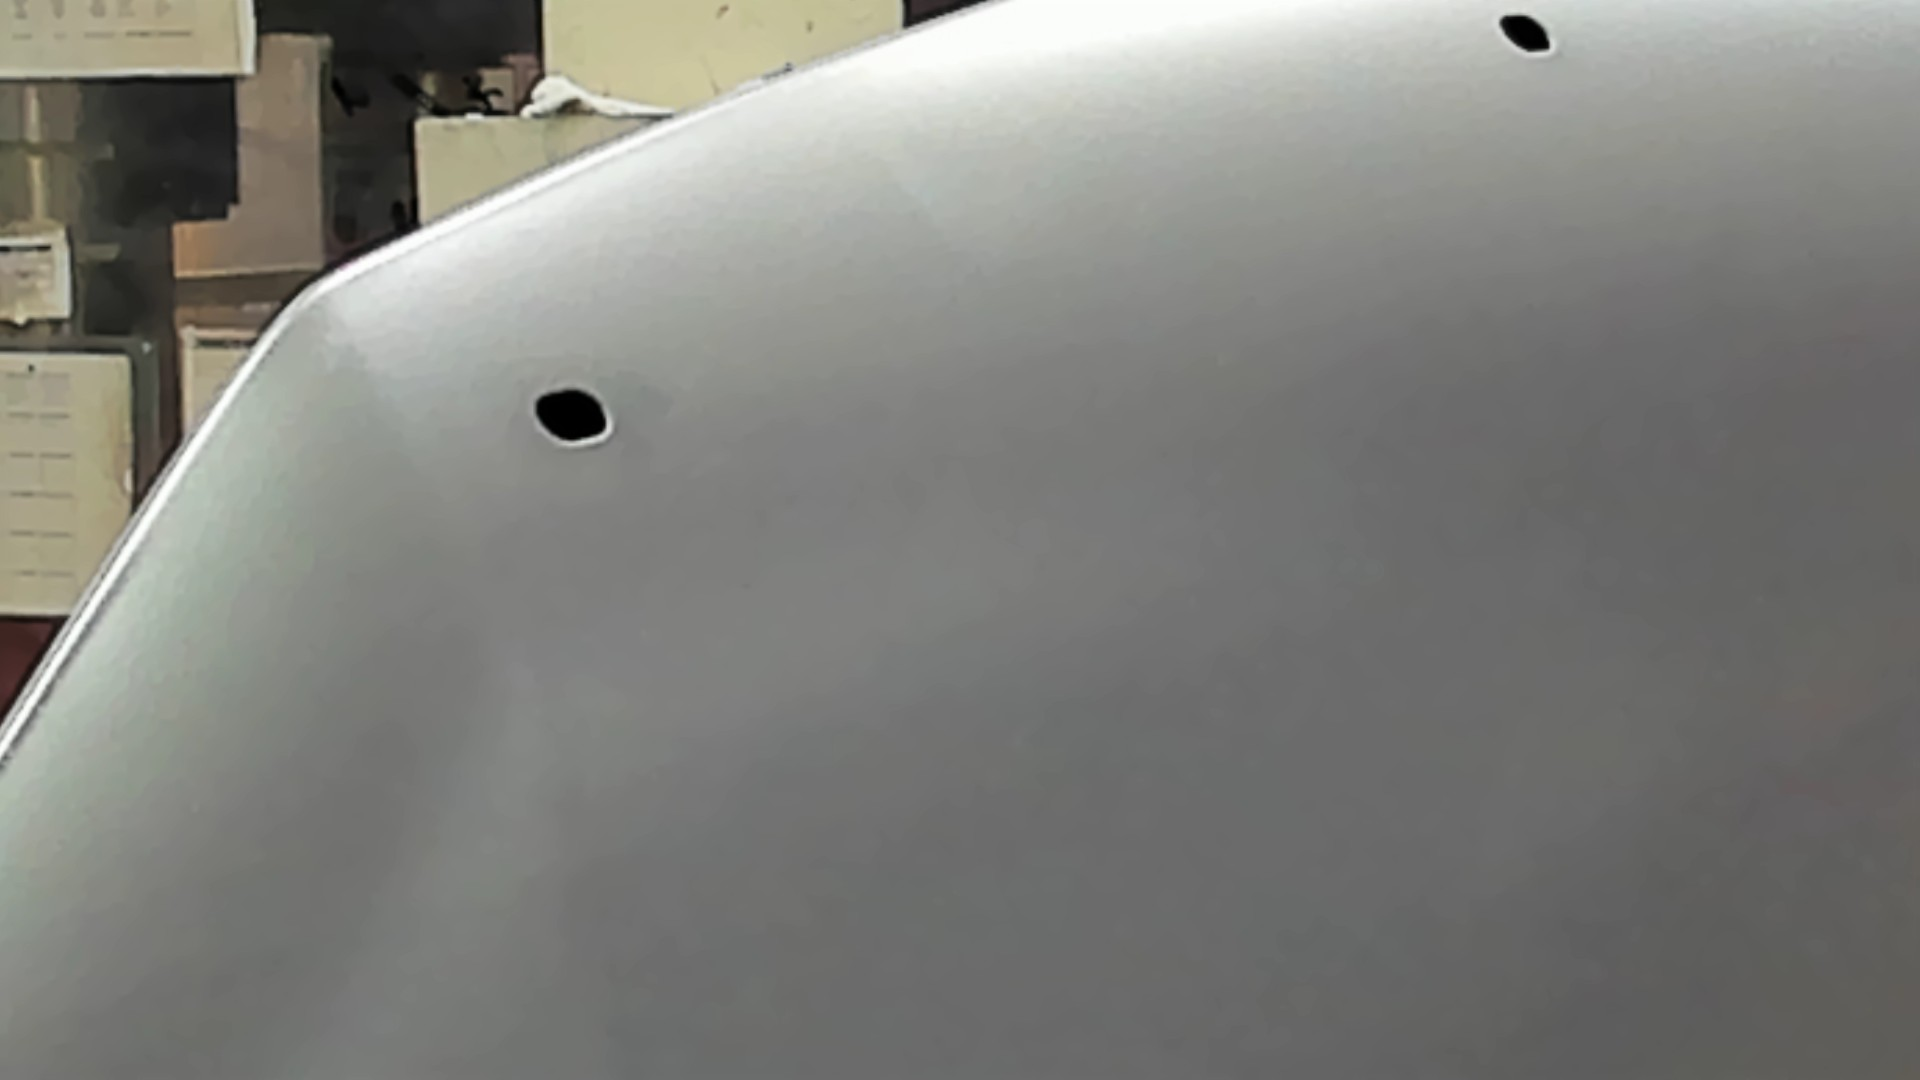amorfo: (520, 382, 634, 455), (1495, 11, 1564, 59)
capo: (707, 146, 1920, 1080)
